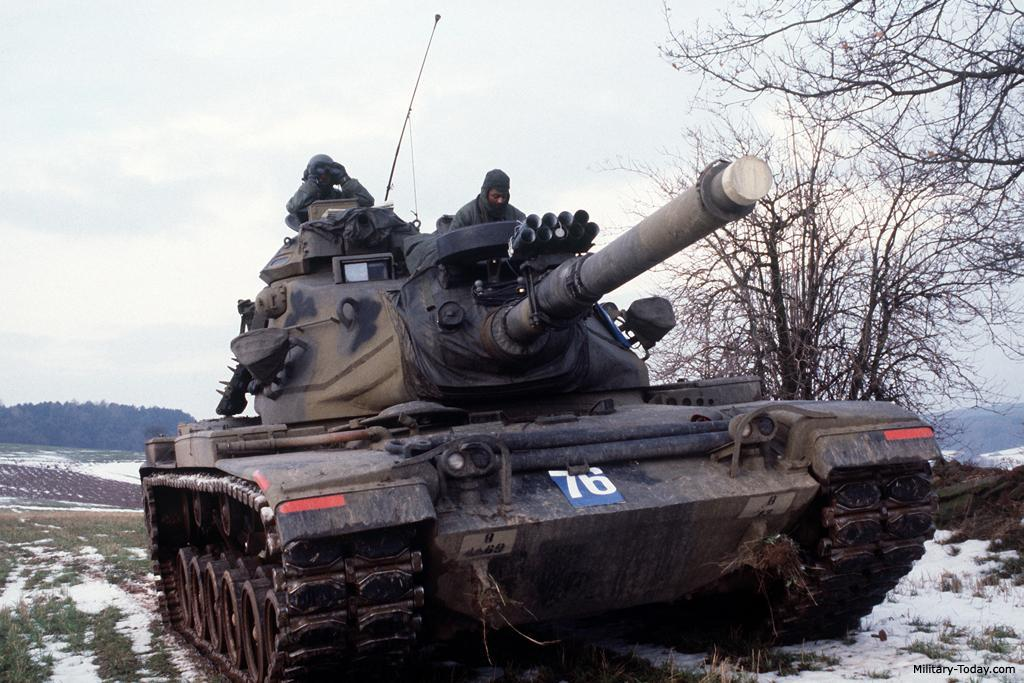person: (270, 151, 393, 242), (437, 164, 533, 228)
tank: (142, 182, 974, 683)
